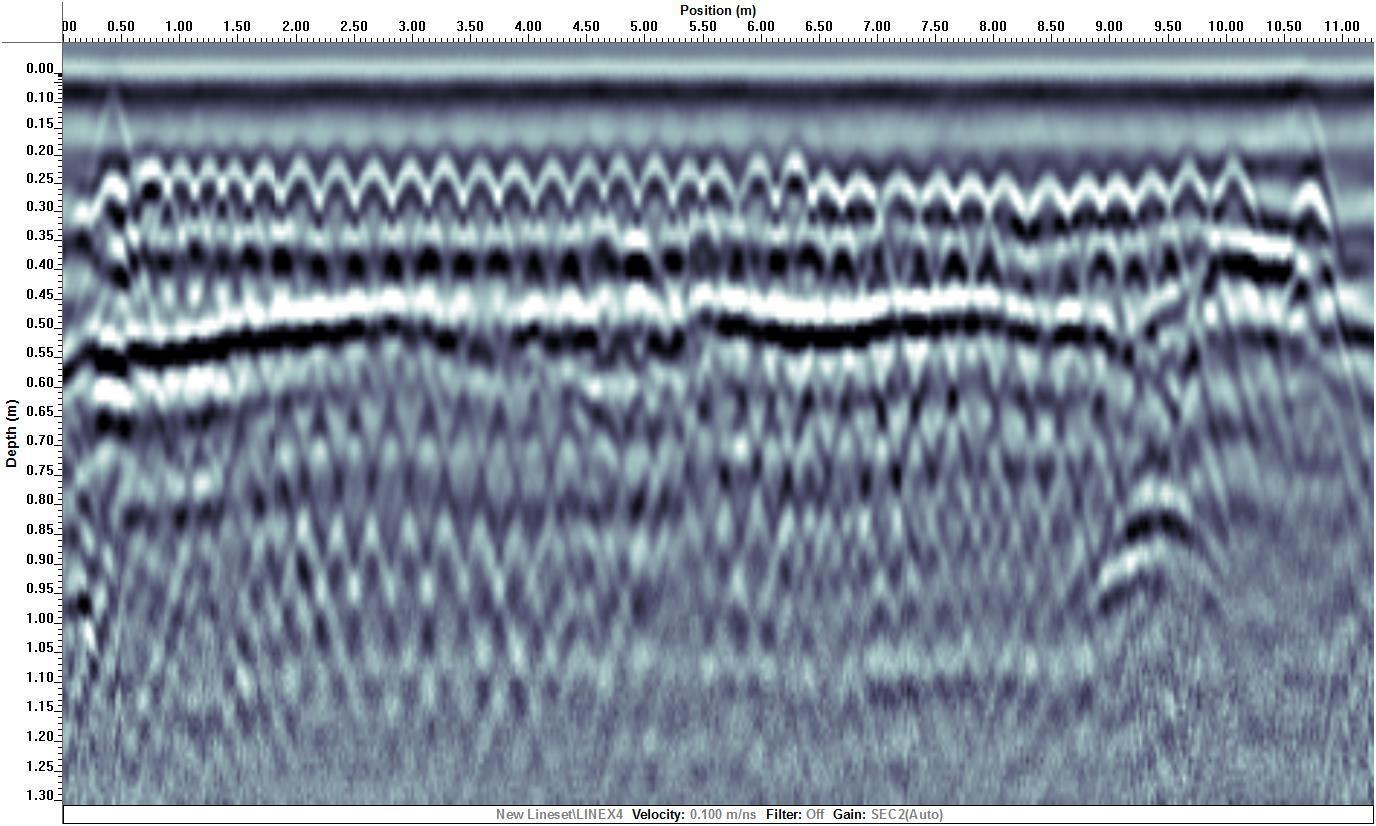hyperbola: (1212, 147, 1256, 229), (1173, 141, 1217, 223), (1292, 153, 1336, 235), (1136, 157, 1173, 232), (1098, 158, 1135, 233), (1068, 156, 1105, 231), (1026, 163, 1063, 238), (982, 146, 1019, 221), (950, 155, 987, 230), (918, 157, 955, 232), (882, 163, 919, 238), (777, 135, 814, 210), (739, 146, 776, 221), (811, 157, 848, 232), (851, 158, 888, 233), (704, 147, 741, 222), (626, 140, 663, 215), (663, 145, 700, 220), (600, 146, 637, 221), (569, 150, 606, 225), (531, 150, 568, 225), (498, 153, 535, 228), (462, 148, 499, 223), (427, 149, 464, 224), (386, 150, 423, 225)
